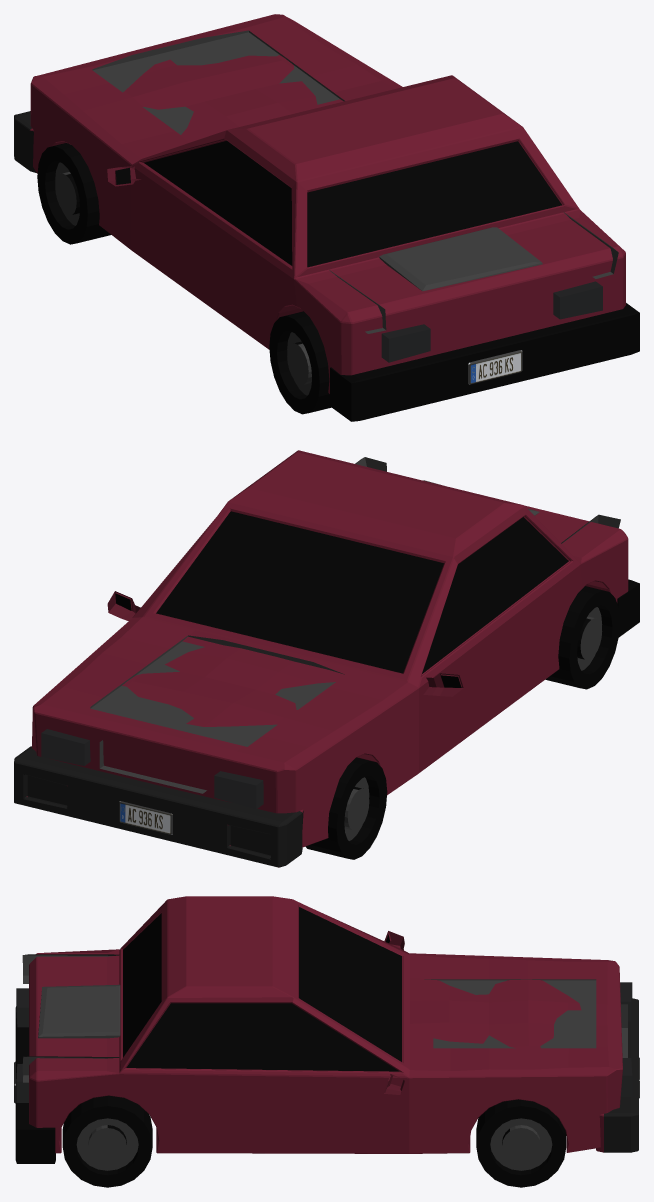
Rendered from car.glb.
3 renders of one model, top to bottom at view 1: azimuth 30°, elevation 25°; view 2: azimuth 150°, elevation 25°; view 3: azimuth 270°, elevation 25°, orthographic. The views are drawn at different scales.
Parts seen in each view (by area): view 1: Body, Bumper, Wheels, Cube.002, Cube, Back lights, License.002, Cube.001; view 2: Body, Wheels, Cube, Head lights, Plane, License, Bumper, Front thing, Cube.001; view 3: Body, Wheels, Cube.002, Cube, Bumper, Cube.001, Back lights, Head lights, Plane.
Boxes of the visible parts, x1=… form: Body: x1=14, y1=14, x2=625, y2=393; Bumper: x1=330, y1=303, x2=639, y2=421; Wheels: x1=37, y1=143, x2=331, y2=414; Cube.002: x1=379, y1=227, x2=542, y2=291; Cube: x1=92, y1=30, x2=344, y2=134; Back lights: x1=381, y1=281, x2=602, y2=362; License.002: x1=468, y1=350, x2=522, y2=384; Cube.001: x1=329, y1=212, x2=618, y2=333; Body: x1=14, y1=450, x2=628, y2=867; Wheels: x1=305, y1=586, x2=619, y2=859; Cube: x1=90, y1=635, x2=344, y2=746; Head lights: x1=41, y1=729, x2=263, y2=809; Plane: x1=107, y1=591, x2=463, y2=696; License: x1=119, y1=801, x2=172, y2=834; Bumper: x1=617, y1=579, x2=639, y2=637; Front thing: x1=99, y1=740, x2=206, y2=793; Cube.001: x1=355, y1=457, x2=620, y2=543; Body: x1=29, y1=896, x2=638, y2=1153; Wheels: x1=62, y1=1095, x2=566, y2=1187; Cube.002: x1=38, y1=984, x2=120, y2=1038; Cube: x1=424, y1=979, x2=596, y2=1048; Bumper: x1=15, y1=1006, x2=55, y2=1163; Cube.001: x1=22, y1=954, x2=119, y2=1082; Back lights: x1=16, y1=988, x2=28, y2=1102; Head lights: x1=620, y1=982, x2=632, y2=1096; Plane: x1=383, y1=931, x2=404, y2=1094.
Bounding box in the file's own units: 4.85 × 2.72 × 8.51.
9 materials, 1 textured.
